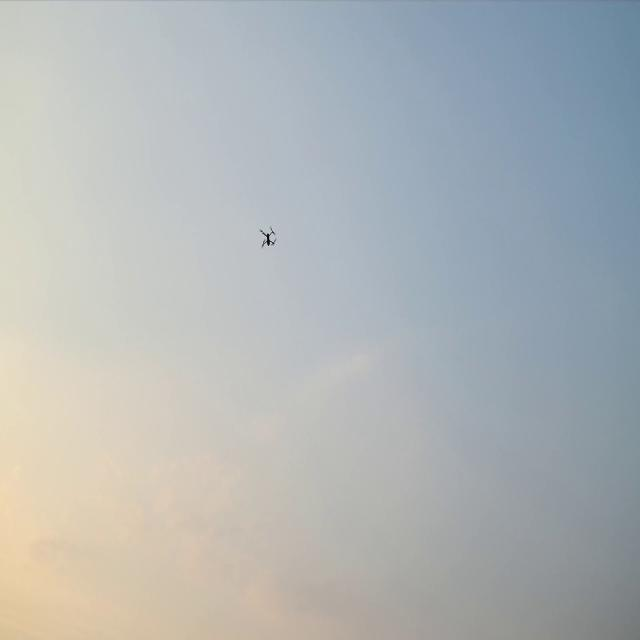UAV: (261, 229, 274, 245)
